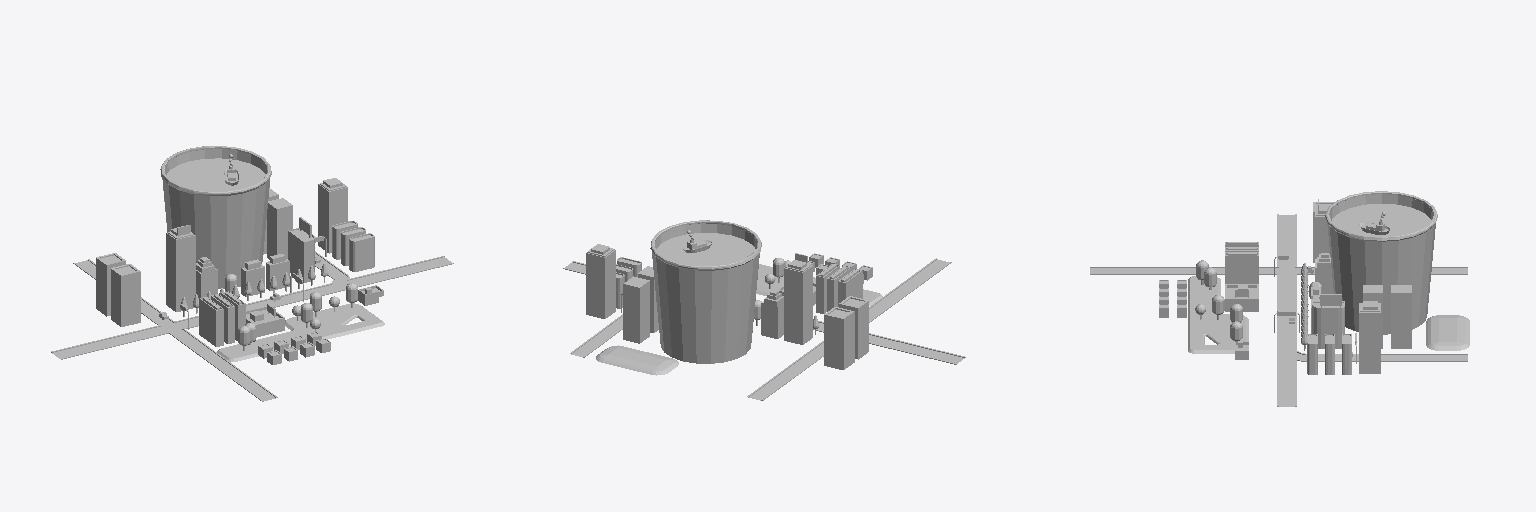
File: city000.obj
The picture shows the model from 3 angles: view 1: azimuth 30°, elevation 25°; view 2: azimuth 150°, elevation 25°; view 3: azimuth 270°, elevation 25°; orthographic projection.
Visible parts, largest first — view 1: pasted__group3 group pasted__TEA_CUP pasted__pCylinder1, pasted__road pasted__group3 group, pasted__group3 group pasted__House pasted__House_Black pasted__H, pasted__group3 group pasted__Grassland3, pasted__group3 group pasted__House pasted__House_Yellow pasted__, pasted__group3 group pasted__pDisc1 pasted__TEA_CUP, pasted__group3 group pasted__House_Gary pasted__House pasted__Ho, pasted__group3 group pasted__House pasted__House_WhiteS pasted__, pasted__group3 group pasted__House pasted__House_Orange_1 pasted, pasted__group3 group pasted__House pasted__House_green_1 pasted_, pasted__group3 group pasted__House_Gary_1 pasted__House_Gary pas, pasted__group3 group pasted__House pasted__House_greenS pasted__ (+5 smaller); view 2: pasted__group3 group pasted__TEA_CUP pasted__pCylinder1, pasted__road pasted__group3 group, pasted__group3 group pasted__House pasted__House_Black pasted__H, pasted__group3 group pasted__House pasted__House_Yellow pasted__, pasted__group3 group pasted__pDisc1 pasted__TEA_CUP, pasted__group3 group pasted__House_Gary_1 pasted__House_Gary pas, pasted__group3 group pasted__House pasted__House_Orange pasted__, pasted__group3 group pasted__Grassland2, pasted__group3 group pasted__House pasted__House_greenS pasted__, pasted__group3 group pasted__House pasted__House_Black_T1 pasted, pasted__group3 group pasted__House_Gary pasted__House pasted__Ho, pasted__group3 group pasted__Grassland3 (+2 smaller); view 3: pasted__group3 group pasted__TEA_CUP pasted__pCylinder1, pasted__road pasted__group3 group, pasted__group3 group pasted__House pasted__House_Black pasted__H, pasted__group3 group pasted__Grassland3, pasted__group3 group pasted__pDisc1 pasted__TEA_CUP, pasted__group3 group pasted__Grassland2, pasted__group3 group pasted__House pasted__House_Orange pasted__, pasted__group3 group pasted__House pasted__House_greenS pasted__, pasted__group3 group pasted__treeS pasted__cylinder_treeS pasted, pasted__group3 group pasted__House pasted__House_WhiteS pasted__, pasted__group3 group pasted__House pasted__House_Yellow pasted__, pasted__group3 group pasted__House pasted__House_Black_T1 pasted.
Part boxes in pixels (left/top/right/bottom): pasted__group3 group pasted__TEA_CUP pasted__pCylinder1: left=160, top=146, right=271, bottom=288; pasted__road pasted__group3 group: left=51, top=251, right=453, bottom=401; pasted__group3 group pasted__House pasted__House_Black pasted__H: left=246, top=178, right=347, bottom=364; pasted__group3 group pasted__Grassland3: left=217, top=303, right=384, bottom=361; pasted__group3 group pasted__House pasted__House_Yellow pasted__: left=166, top=225, right=195, bottom=311; pasted__group3 group pasted__pDisc1 pasted__TEA_CUP: left=167, top=158, right=265, bottom=190; pasted__group3 group pasted__House_Gary pasted__House pasted__Ho: left=111, top=264, right=140, bottom=326; pasted__group3 group pasted__House pasted__House_WhiteS pasted__: left=341, top=227, right=374, bottom=271; pasted__group3 group pasted__House pasted__House_Orange_1 pasted: left=267, top=198, right=292, bottom=259; pasted__group3 group pasted__House pasted__House_green_1 pasted_: left=199, top=297, right=223, bottom=346; pasted__group3 group pasted__House_Gary_1 pasted__House_Gary pas: left=96, top=253, right=125, bottom=316; pasted__group3 group pasted__House pasted__House_greenS pasted__: left=211, top=291, right=245, bottom=343; pasted__group3 group pasted__TEA_CUP pasted__pCylinder1: left=650, top=220, right=761, bottom=363; pasted__road pasted__group3 group: left=563, top=258, right=965, bottom=400; pasted__group3 group pasted__House pasted__House_Black pasted__H: left=586, top=244, right=872, bottom=318; pasted__group3 group pasted__House pasted__House_Yellow pasted__: left=784, top=253, right=812, bottom=344; pasted__group3 group pasted__pDisc1 pasted__TEA_CUP: left=657, top=233, right=755, bottom=265; pasted__group3 group pasted__House_Gary_1 pasted__House_Gary pas: left=824, top=307, right=854, bottom=369; pasted__group3 group pasted__House pasted__House_Orange pasted__: left=623, top=276, right=649, bottom=343; pasted__group3 group pasted__Grassland2: left=596, top=345, right=678, bottom=375; pasted__group3 group pasted__House pasted__House_greenS pasted__: left=816, top=264, right=850, bottom=313; pasted__group3 group pasted__House pasted__House_Black_T1 pasted: left=761, top=289, right=783, bottom=338; pasted__group3 group pasted__House_Gary pasted__House pasted__Ho: left=839, top=296, right=868, bottom=359; pasted__group3 group pasted__Grassland3: left=756, top=264, right=882, bottom=305; pasted__group3 group pasted__TEA_CUP pasted__pCylinder1: left=1325, top=191, right=1437, bottom=334; pasted__road pasted__group3 group: left=1090, top=214, right=1467, bottom=406; pasted__group3 group pasted__House pasted__House_Black pasted__H: left=1159, top=280, right=1380, bottom=373; pasted__group3 group pasted__Grassland3: left=1188, top=276, right=1248, bottom=353; pasted__group3 group pasted__pDisc1 pasted__TEA_CUP: left=1332, top=204, right=1431, bottom=235; pasted__group3 group pasted__Grassland2: left=1426, top=315, right=1469, bottom=350; pasted__group3 group pasted__House pasted__House_Orange pasted__: left=1391, top=285, right=1411, bottom=348; pasted__group3 group pasted__House pasted__House_greenS pasted__: left=1225, top=247, right=1258, bottom=283; pasted__group3 group pasted__treeS pasted__cylinder_treeS pasted: left=1196, top=260, right=1321, bottom=341; pasted__group3 group pasted__House pasted__House_WhiteS pasted__: left=1307, top=334, right=1334, bottom=374; pasted__group3 group pasted__House pasted__House_Yellow pasted__: left=1315, top=199, right=1330, bottom=258; pasted__group3 group pasted__House pasted__House_Black_T1 pasted: left=1315, top=253, right=1333, bottom=293.
Size of the model in its own units: 186 by 51.6 by 156.